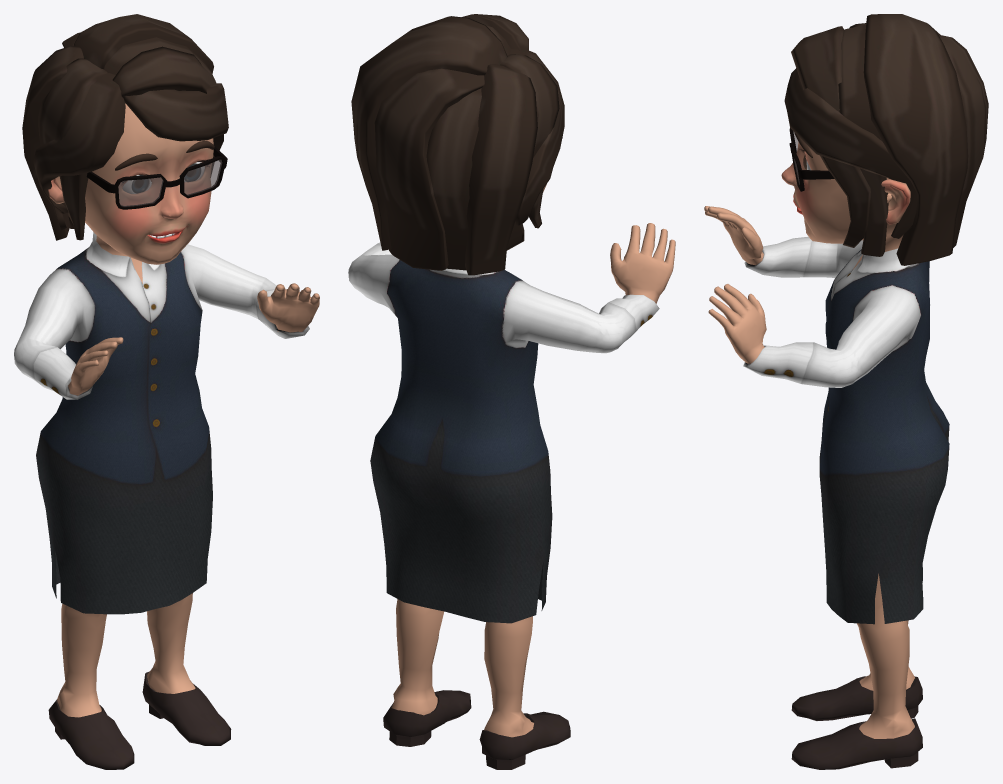
File: char_giaovien.glb
3 renders of one model, left to right at view 1: azimuth 30°, elevation 25°; view 2: azimuth 150°, elevation 25°; view 3: azimuth 270°, elevation 25°, orthographic. The views are drawn at different scales.
Visible parts, largest first — view 1: giaovien; view 2: giaovien; view 3: giaovien.
Part boxes in pixels (x1,y1,x2,y2): giaovien: (14, 14, 319, 769); giaovien: (348, 14, 675, 769); giaovien: (704, 14, 988, 769).
Size of what is drawn, in the model's own units: 117 by 299 by 107.
Materials: 8 (5 with a texture image).
